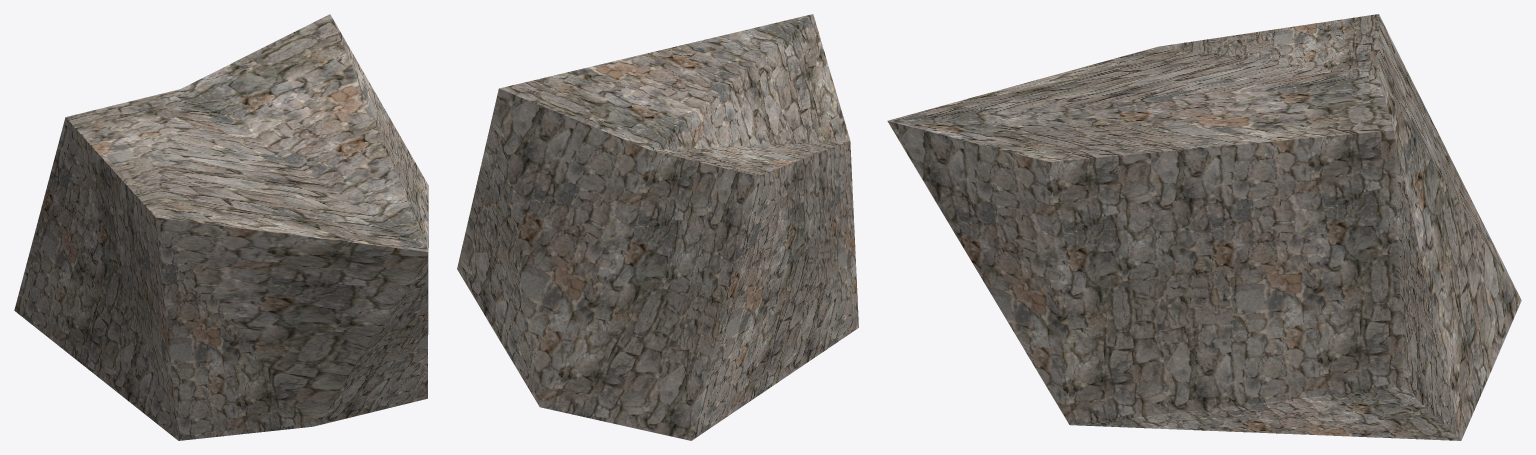
Rendered from Rocks.glb.
3 renders of one model, left to right at view 1: azimuth 30°, elevation 25°; view 2: azimuth 150°, elevation 25°; view 3: azimuth 270°, elevation 25°, orthographic. The views are drawn at different scales.
Visible parts, largest first — view 1: Rock1; view 2: Rock1; view 3: Rock1.
Boxes of the visible parts, left/top/right/bottom form: Rock1: left=14, top=14, right=428, bottom=440; Rock1: left=457, top=14, right=858, bottom=440; Rock1: left=887, top=14, right=1521, bottom=440.
Bounding box in the file's own units: 2.75 × 2.51 × 4.1.
Materials: 1 (1 with a texture image).
